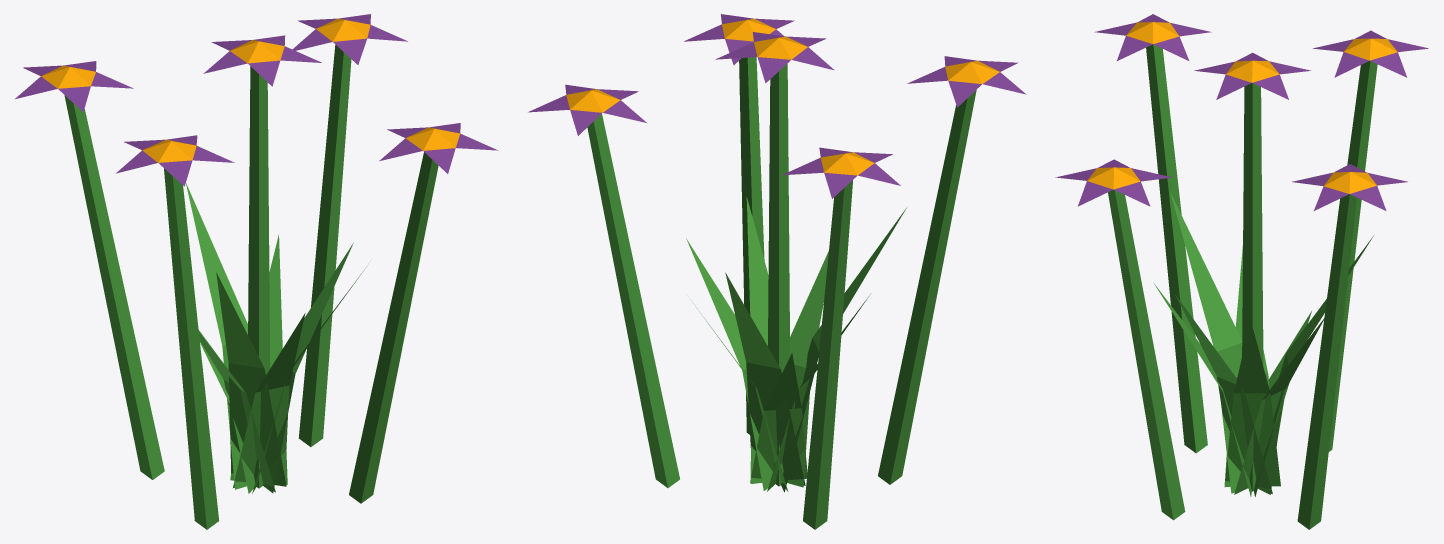
Rendered from flowers_purple.glb.
3 renders of one model, left to right at view 1: azimuth 30°, elevation 25°; view 2: azimuth 150°, elevation 25°; view 3: azimuth 270°, elevation 25°, orthographic. The views are drawn at different scales.
Parts seen in each view (by area): view 1: flowers_purple; view 2: flowers_purple; view 3: flowers_purple.
Part boxes in pixels (x1,y1,x2,y2): flowers_purple: (15, 14, 498, 529); flowers_purple: (528, 14, 1026, 529); flowers_purple: (1055, 14, 1428, 529).
Size of the model in its own units: 0.3708 by 0.415 by 0.3315.
